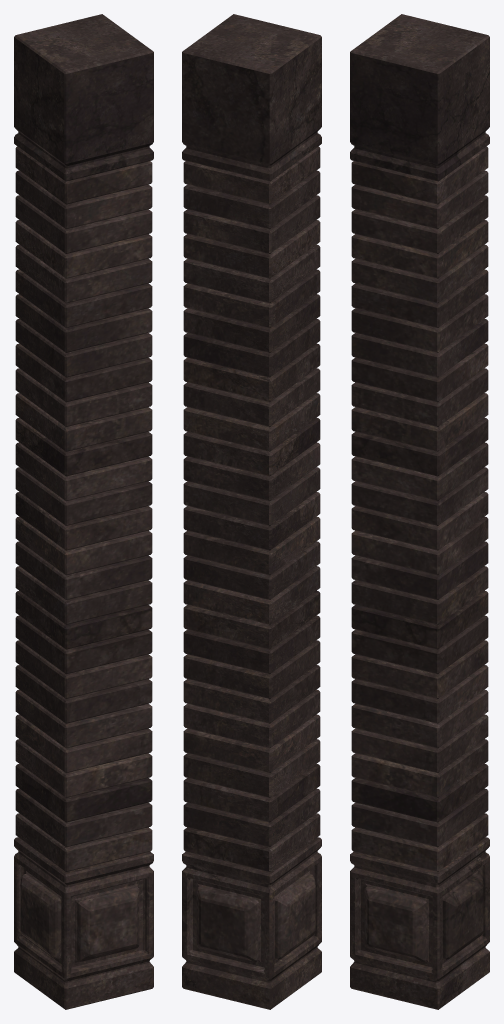
Rendered from SK3 PILLAR 2.fbx.
The picture shows the model from 3 angles, left to right: view 1: azimuth 30°, elevation 25°; view 2: azimuth 150°, elevation 25°; view 3: azimuth 330°, elevation 25°; orthographic projection.
Visible parts, largest first — view 1: SK3 PILLAR 2; view 2: SK3 PILLAR 2; view 3: SK3 PILLAR 2.
Boxes of the visible parts, x1=… form: SK3 PILLAR 2: x1=14, y1=14, x2=153, y2=1009; SK3 PILLAR 2: x1=182, y1=14, x2=321, y2=1009; SK3 PILLAR 2: x1=350, y1=14, x2=489, y2=1009.
Size of the model in its own units: 44.83 by 400 by 45.03.
